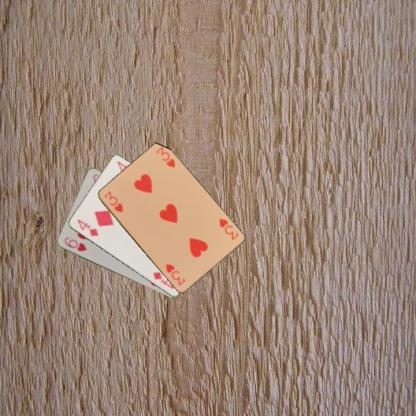3h: (216, 215, 240, 241), (101, 188, 124, 214)
4d: (74, 216, 100, 237)
6h: (61, 234, 88, 252)
